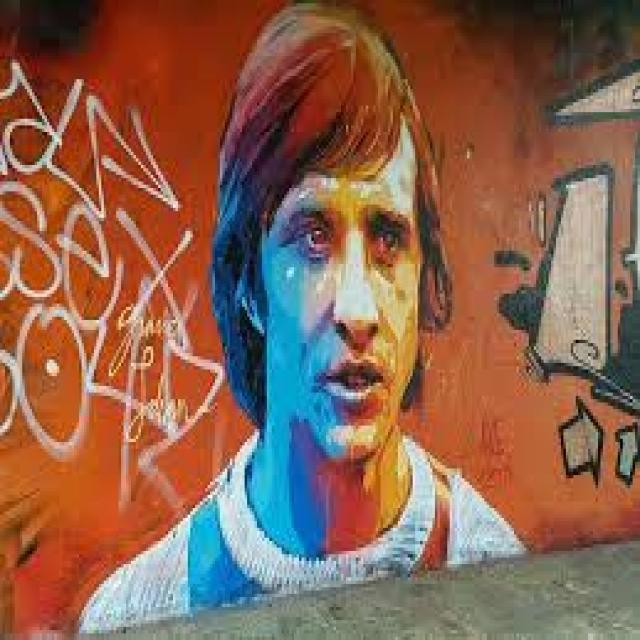-: (79, 5, 529, 640), (0, 58, 223, 516), (495, 57, 640, 487)
